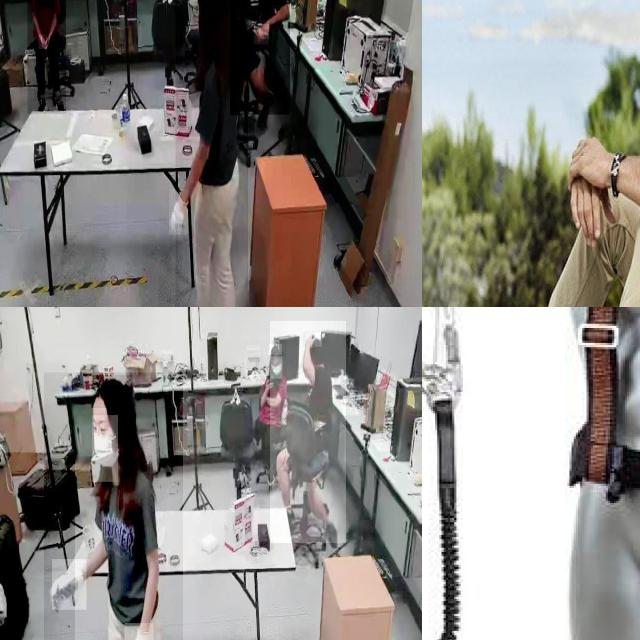Harness: (560, 307, 640, 631)
face_mask: (92, 415, 118, 482), (270, 356, 282, 378)
hand_glove: (52, 559, 86, 610), (169, 190, 189, 236), (0, 571, 13, 640), (124, 623, 153, 640)
hand_noglove: (254, 24, 269, 45), (258, 20, 270, 40), (303, 332, 315, 348), (39, 34, 47, 50), (264, 376, 274, 388), (43, 32, 49, 49)
head_nohelmet: (91, 375, 133, 409), (306, 332, 322, 348), (269, 344, 283, 356)
person: (44, 372, 183, 640), (175, 0, 248, 307), (270, 321, 346, 544), (0, 452, 75, 640), (229, 0, 290, 115), (244, 340, 287, 450), (27, 0, 66, 114)
